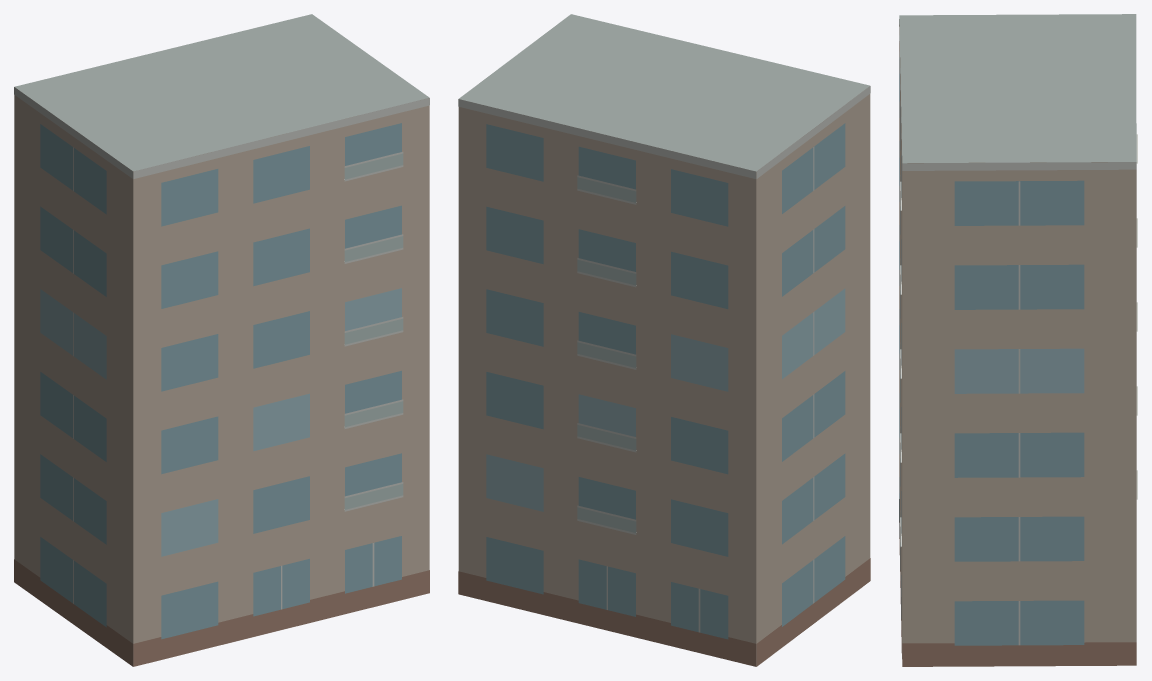
Rendered from survey-upis-32775955.glb.
3 renders of one model, left to right at view 1: azimuth 30°, elevation 25°; view 2: azimuth 150°, elevation 25°; view 3: azimuth 270°, elevation 25°, orthographic.
Visible parts, largest first — view 1: survey-upis-32775955.tmp; view 2: survey-upis-32775955.tmp; view 3: survey-upis-32775955.tmp.
Boxes of the visible parts, <box> form: survey-upis-32775955.tmp: <box>14,14,429,666</box>; survey-upis-32775955.tmp: <box>458,14,870,666</box>; survey-upis-32775955.tmp: <box>899,14,1137,666</box>.
Size of the model in its own units: 9.95 by 15.65 by 6.72.
